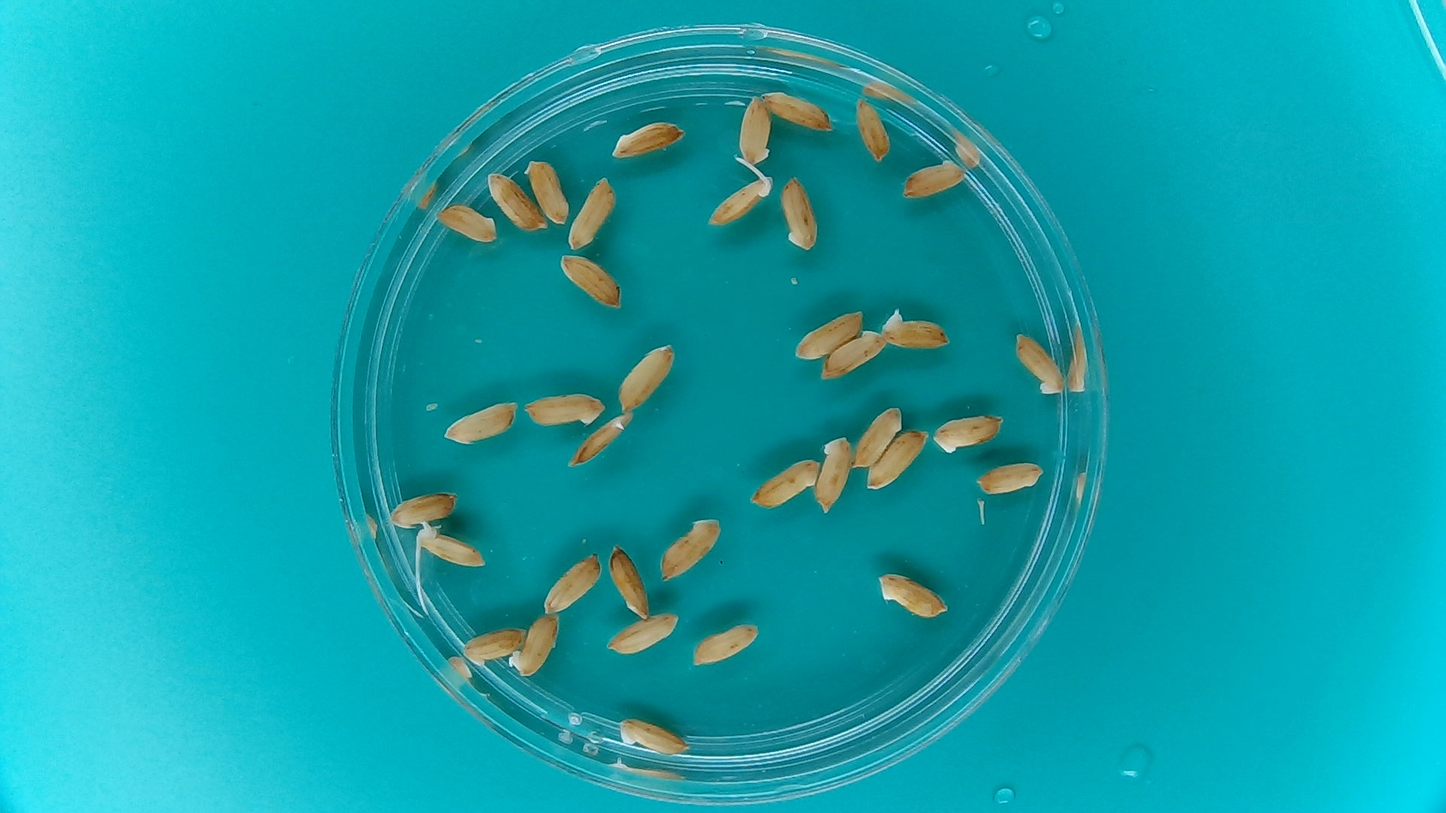no: (657, 515, 724, 582), (615, 340, 676, 413), (865, 426, 929, 492), (439, 397, 520, 446), (566, 175, 618, 251), (485, 169, 548, 231), (557, 251, 624, 309), (792, 308, 865, 361), (541, 551, 602, 614), (874, 569, 950, 619), (758, 85, 837, 133), (508, 610, 562, 679), (748, 457, 820, 508), (820, 328, 887, 381), (851, 403, 904, 470), (607, 541, 651, 621), (604, 611, 682, 656), (1014, 330, 1066, 396), (523, 154, 570, 227), (608, 116, 687, 159), (522, 389, 608, 428), (898, 154, 969, 201), (691, 621, 762, 668), (813, 432, 853, 513), (932, 410, 1005, 454), (779, 174, 820, 252), (615, 715, 693, 756), (851, 94, 894, 165), (386, 489, 461, 529), (432, 199, 499, 243), (735, 91, 773, 165), (459, 625, 526, 666), (975, 460, 1045, 496)
yes: (703, 166, 776, 228), (564, 411, 634, 469), (414, 522, 487, 568), (880, 308, 953, 351)
